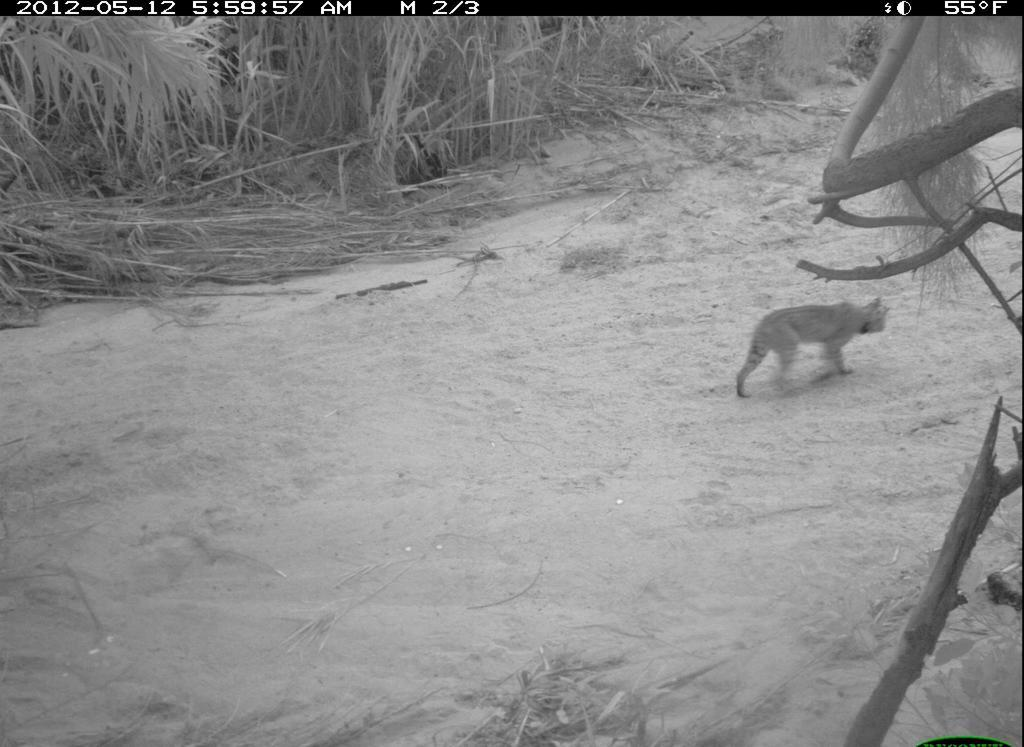bobcat: (729, 286, 899, 408)
